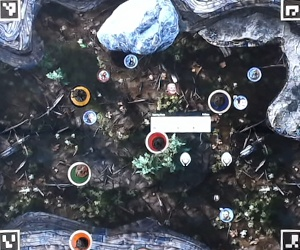blue: (209, 90, 232, 113)
orange: (68, 226, 94, 249), (69, 162, 92, 185)
red: (144, 130, 167, 153)
yellow_night_blue: (68, 85, 91, 108)
